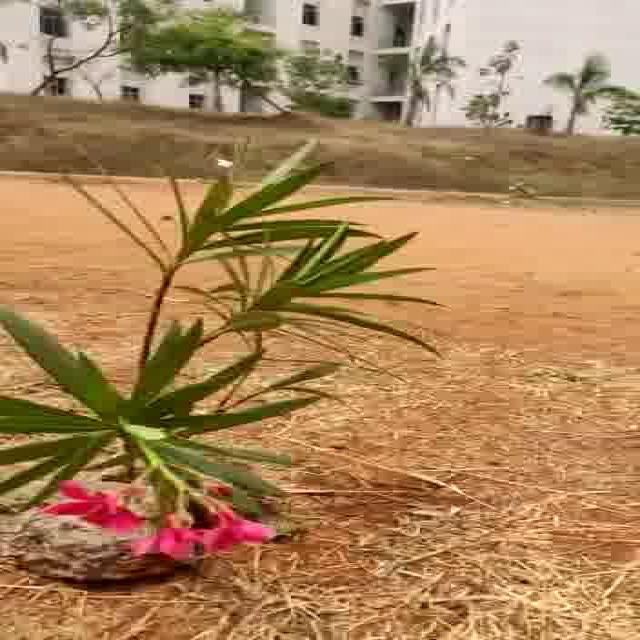Oleander: (53, 142, 507, 513)
